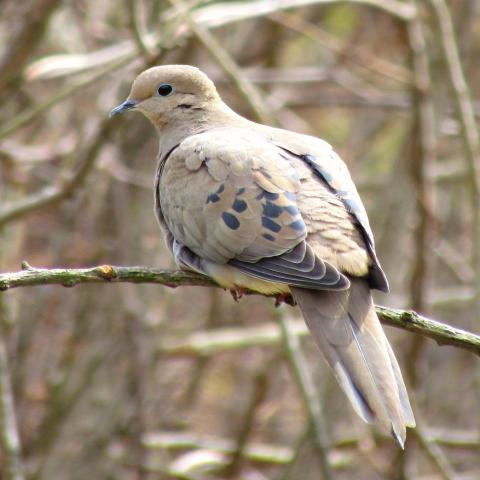bird: (106, 62, 418, 450)
